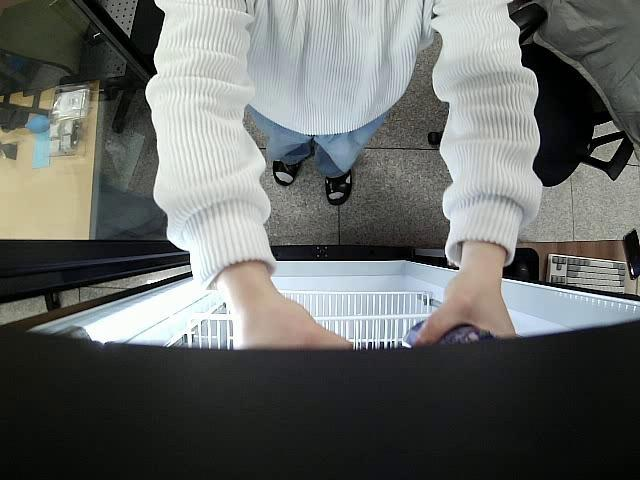14_welchsGrape: (400, 316, 499, 350)
